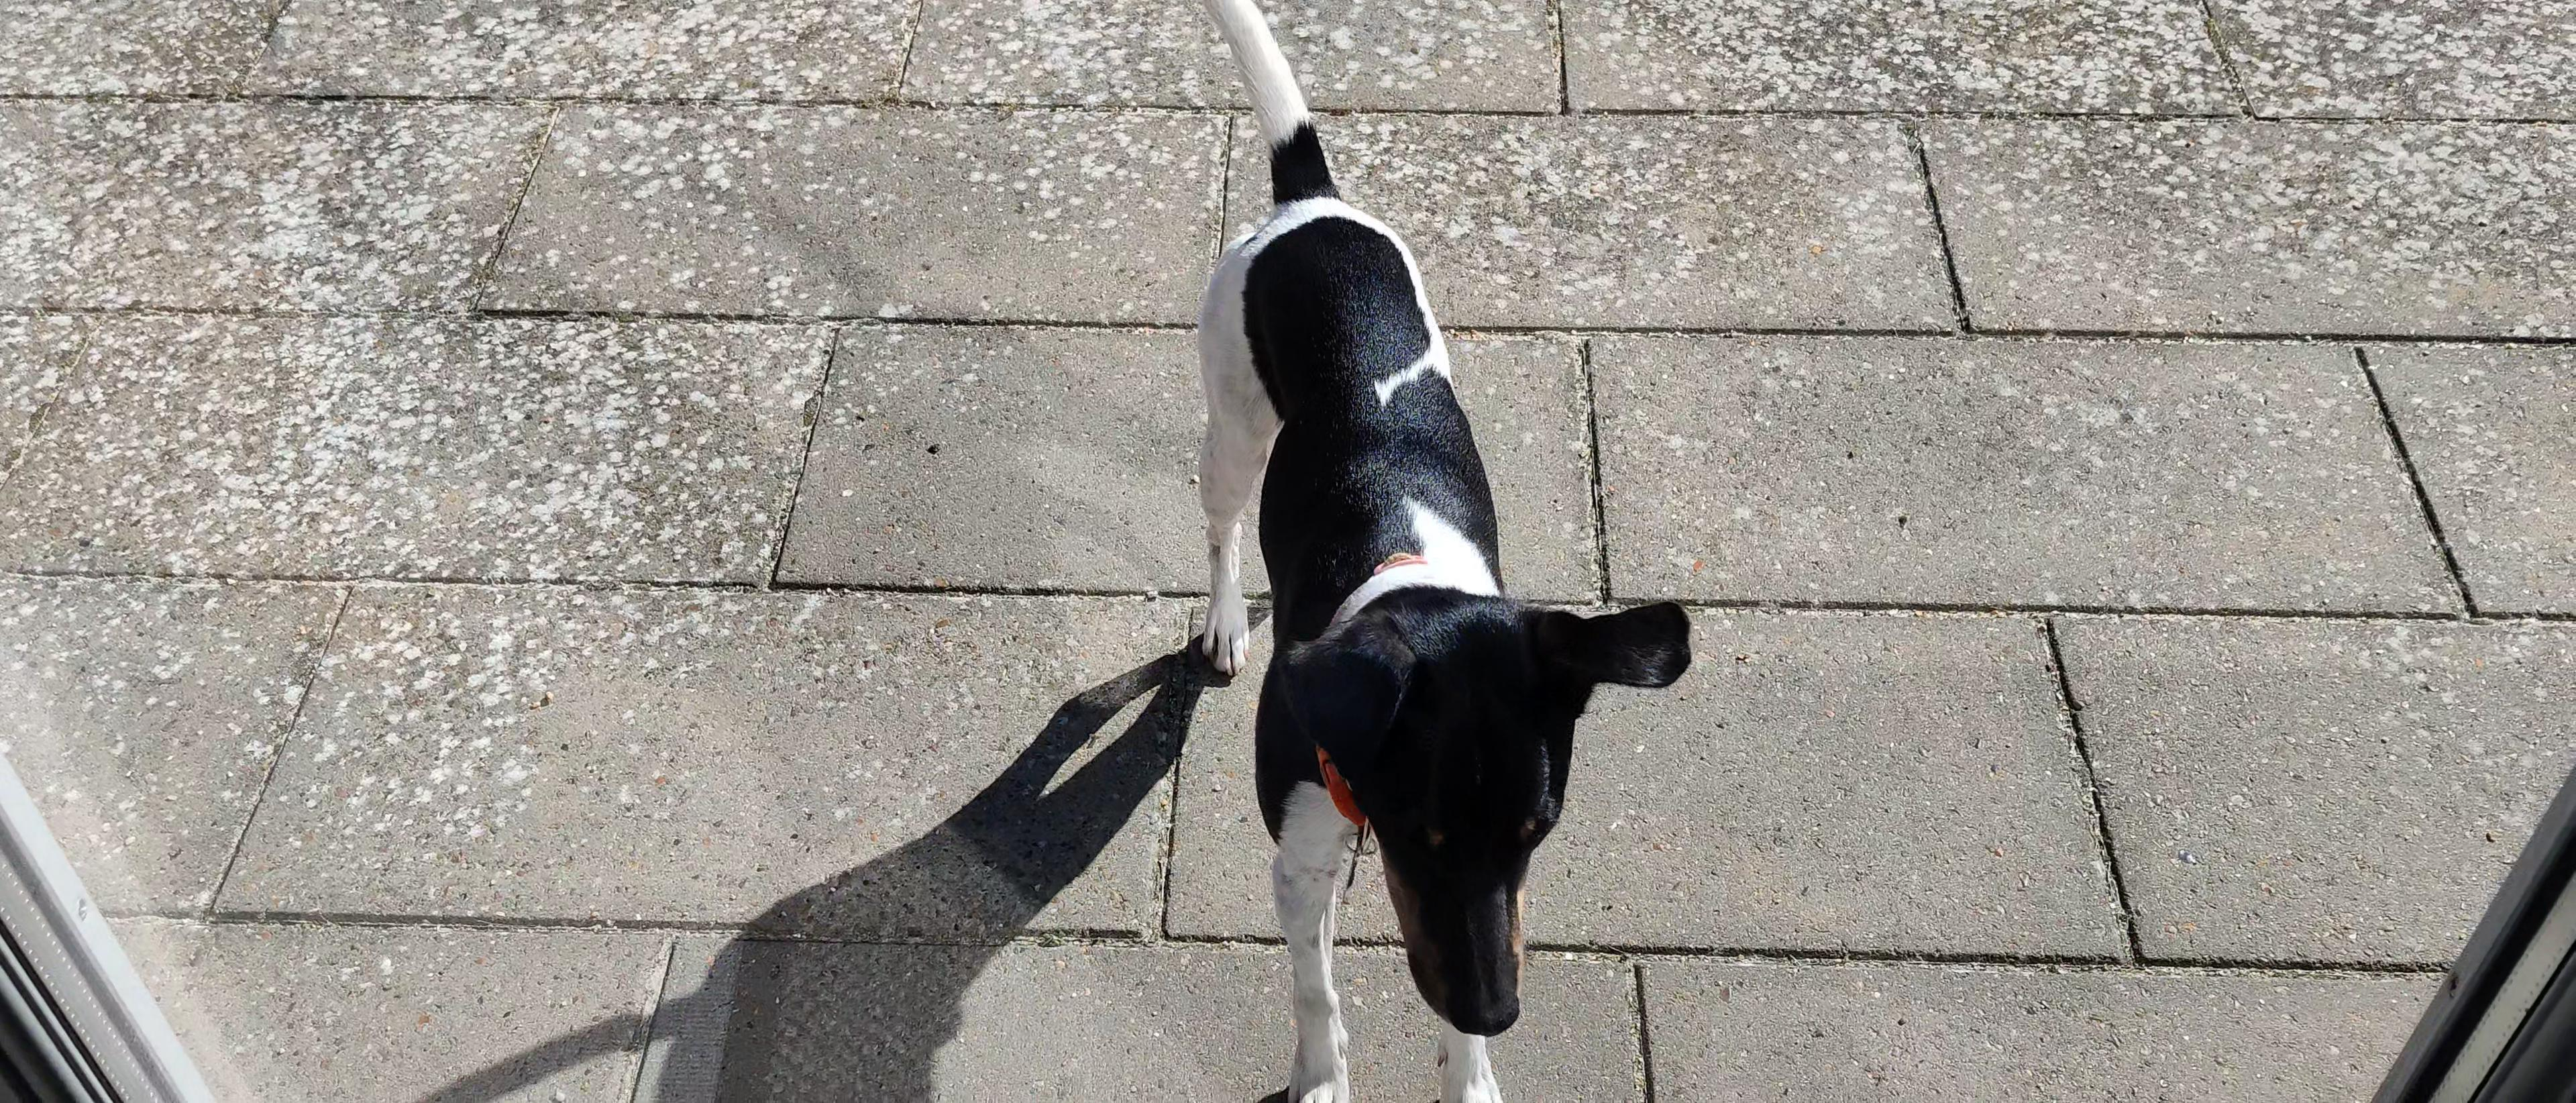Dog: (1135, 0, 1712, 1103)
